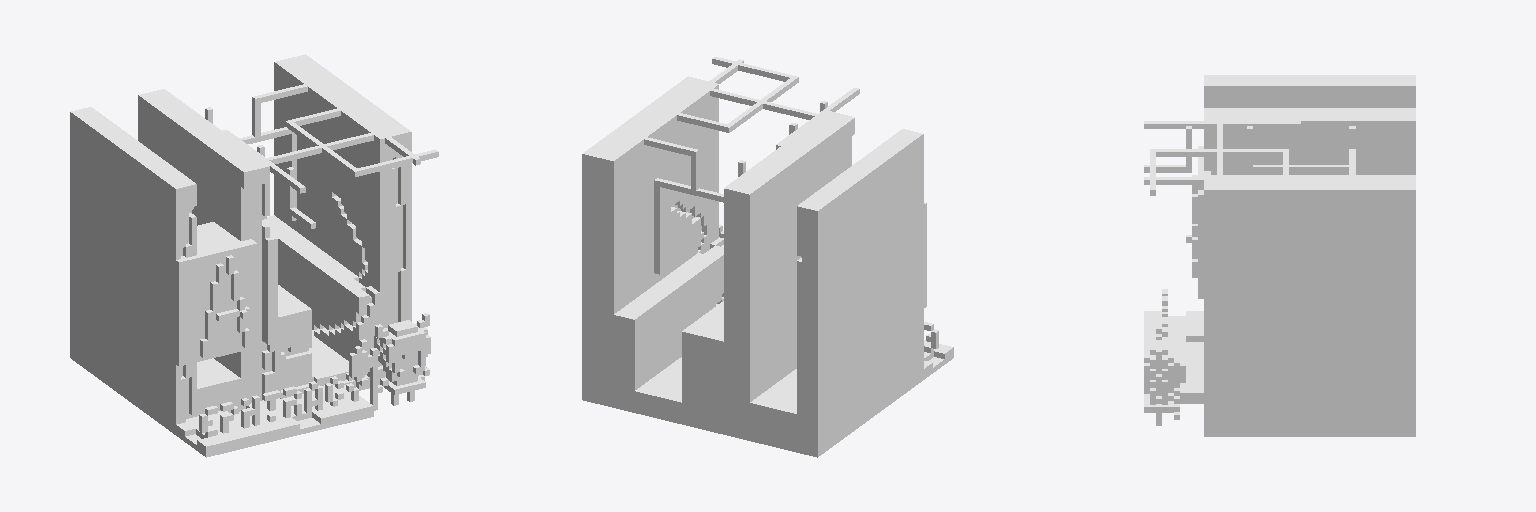
File: testVoxel.obj
3 views of the same model, side by side, from view 1: azimuth 30°, elevation 25°; view 2: azimuth 150°, elevation 25°; view 3: azimuth 270°, elevation 25° (orthographic).
Bounding box in the file's own units: 45 × 45 × 45.